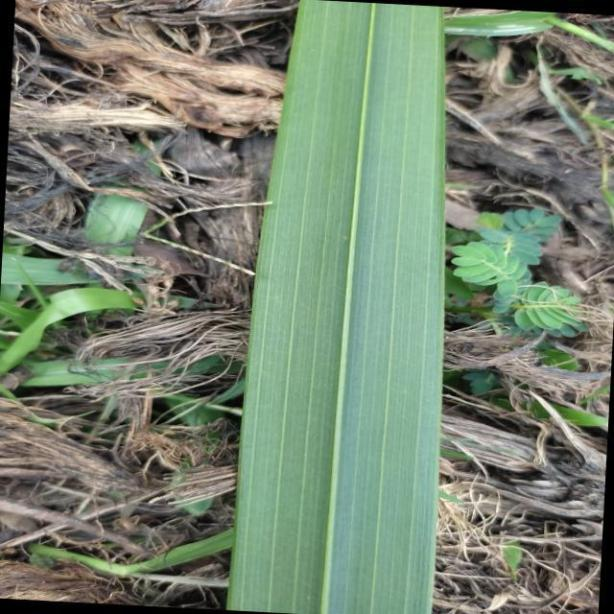Healthy: (227, 3, 445, 614)
